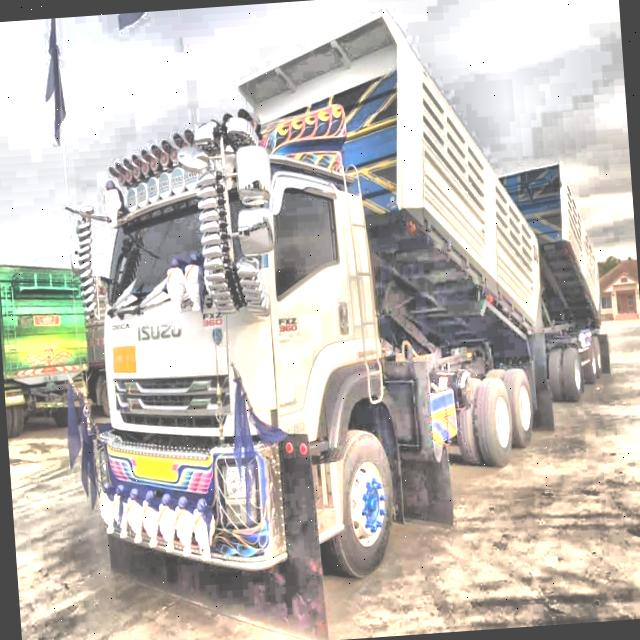trailer: (46, 0, 617, 596)
